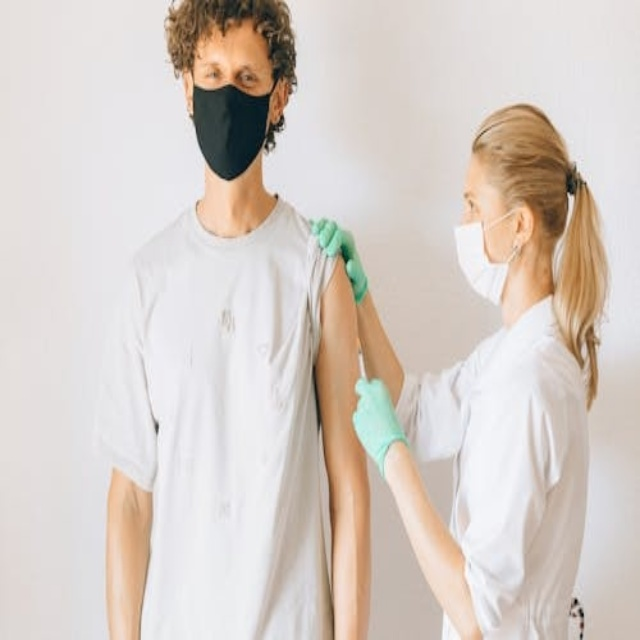Guantes: (352, 375, 410, 479), (309, 217, 368, 304)
Mascara: (191, 76, 276, 179), (454, 209, 519, 306)
Sin_gafas: (191, 54, 268, 96), (454, 173, 494, 219)
